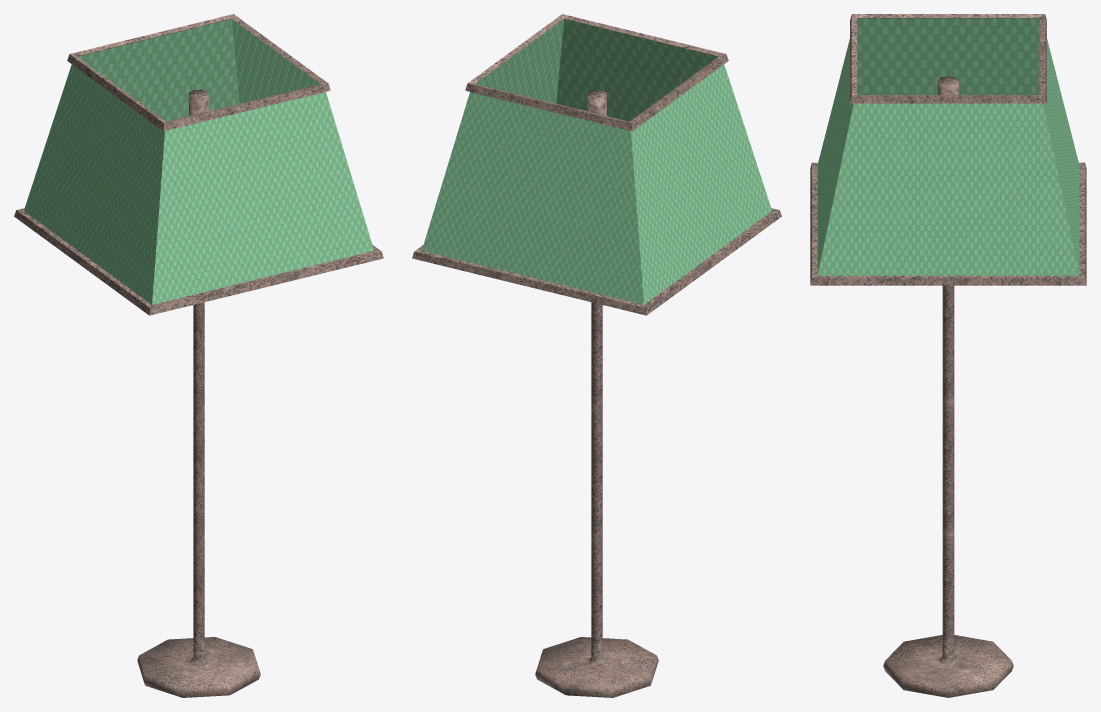
Rendered from lampada.fbx.
3 views of the same model, side by side, from view 1: azimuth 30°, elevation 25°; view 2: azimuth 150°, elevation 25°; view 3: azimuth 270°, elevation 25° (orthographic). The views are drawn at different scales.
Visible parts, largest first — view 1: Cylinder.001; view 2: Cylinder.001; view 3: Cylinder.001.
Boxes of the visible parts, x1,y1,x2,y2 form: Cylinder.001: [14, 14, 383, 697]; Cylinder.001: [412, 14, 781, 697]; Cylinder.001: [810, 14, 1086, 697].
Size of the model in its own units: 66.49 by 164 by 66.49.
